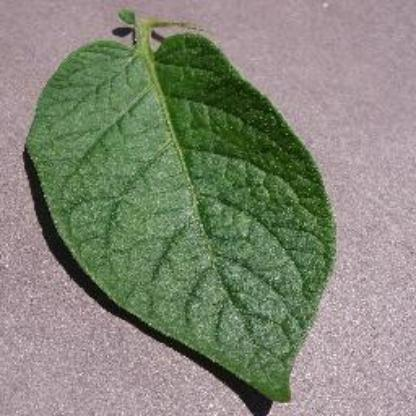Healthy-plant: (16, 21, 396, 399)
